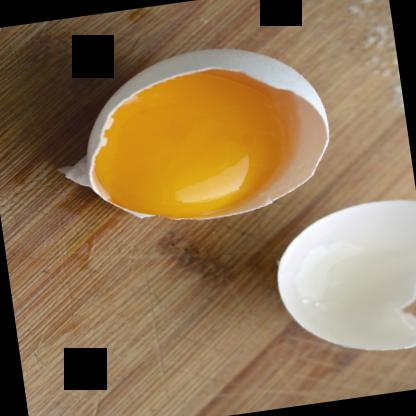egg: (66, 38, 340, 235)
